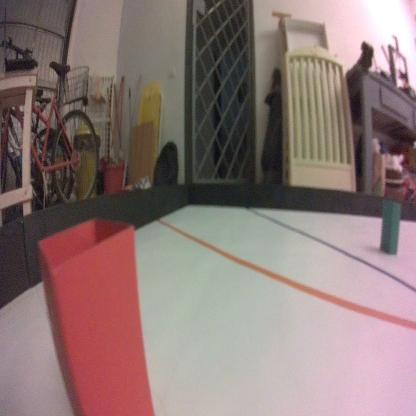green: (379, 199, 402, 257)
red: (34, 216, 156, 416)
